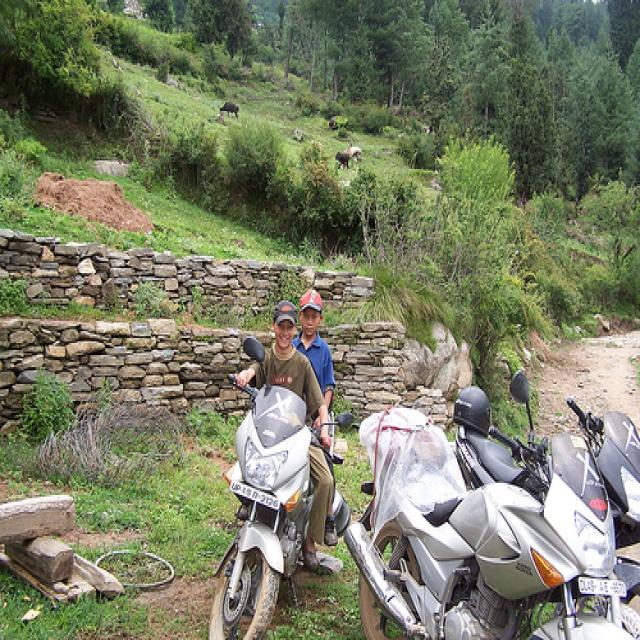motorbike: (344, 406, 640, 640), (454, 397, 640, 639), (207, 372, 345, 640)
person: (235, 300, 334, 571), (292, 291, 338, 546)
